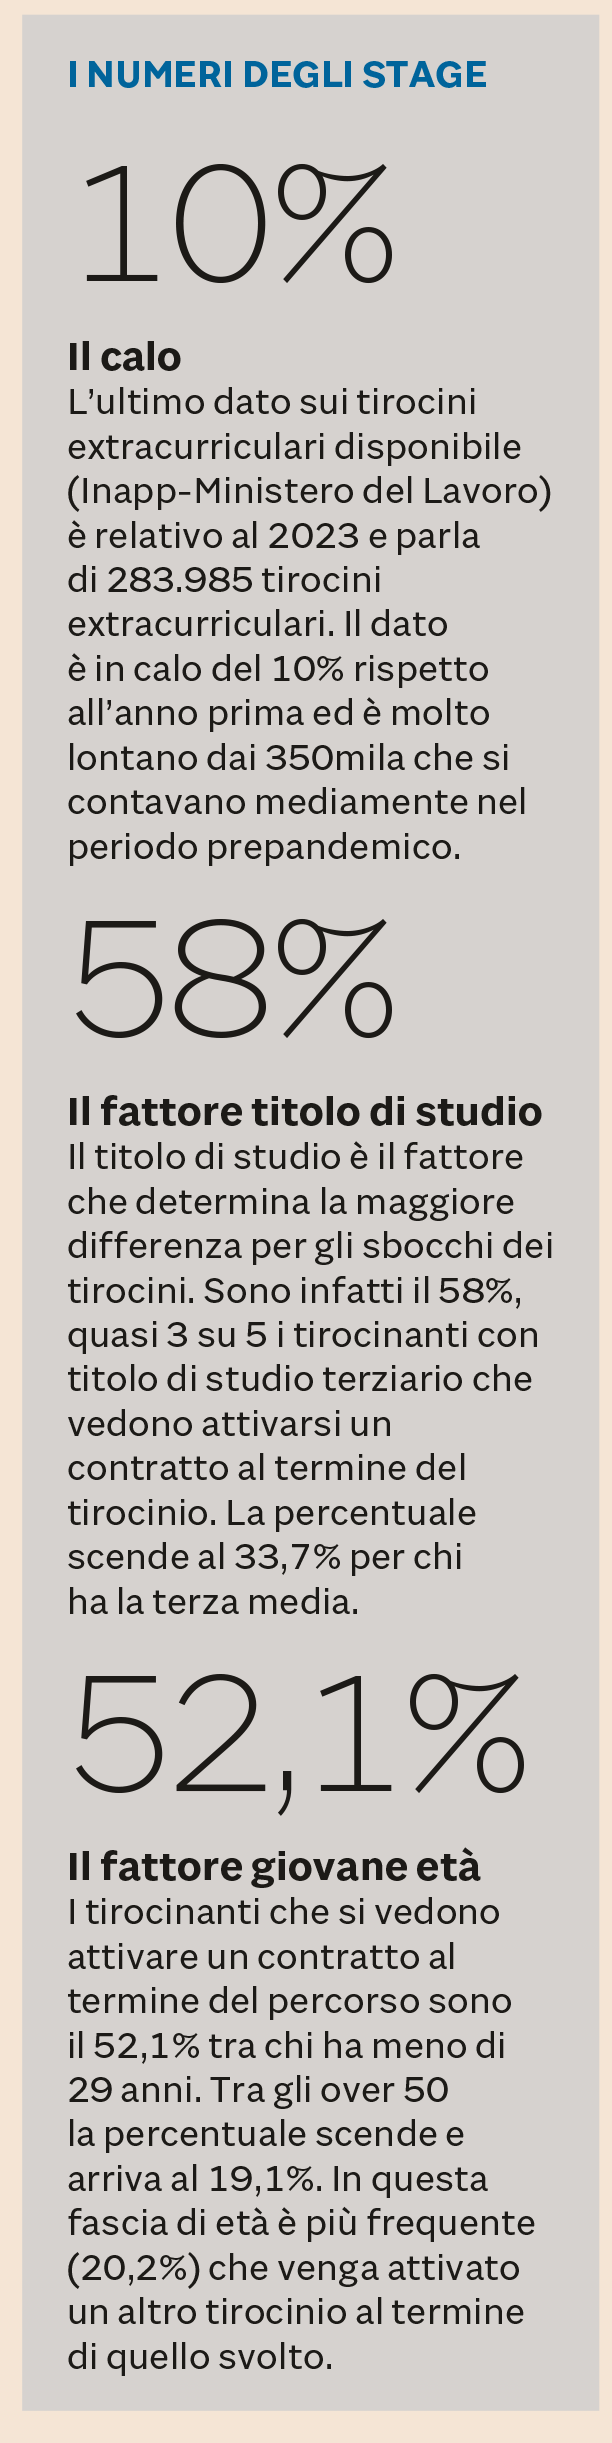scheda-numerone-1: (44, 1630, 582, 2406), (37, 123, 582, 885), (34, 879, 579, 1641)
